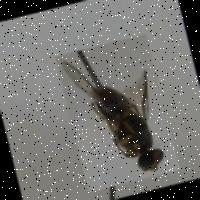Oriental-fruit-fly: (54, 33, 179, 192)
